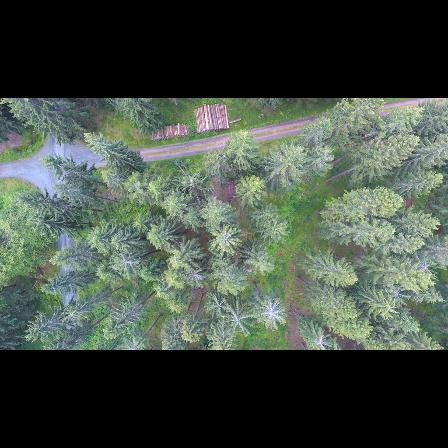Sick: (254, 294, 289, 328), (222, 304, 256, 334), (115, 248, 139, 275), (386, 282, 411, 302), (206, 294, 228, 315)
